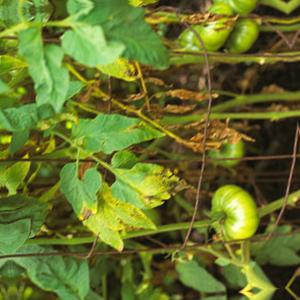Tomato Early blight leaf: (106, 155, 191, 206), (65, 109, 163, 152), (61, 155, 101, 224)
